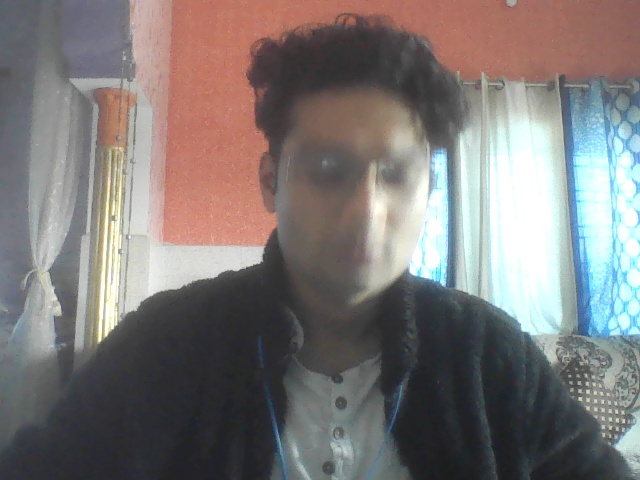real: (238, 13, 460, 327)
